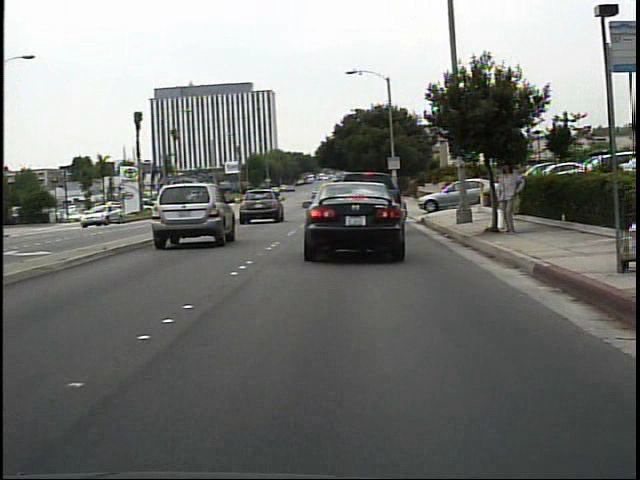person: (491, 158, 527, 238)
